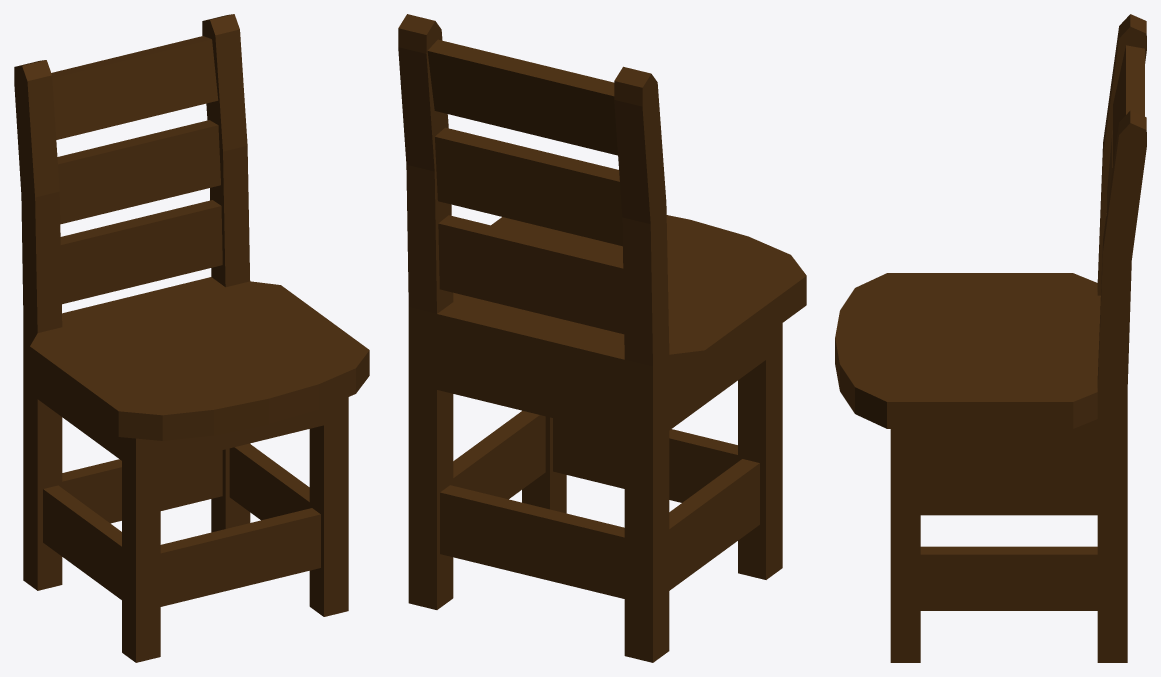
Rendered from chare.glb.
The picture shows the model from 3 angles, left to right: view 1: azimuth 30°, elevation 25°; view 2: azimuth 150°, elevation 25°; view 3: azimuth 270°, elevation 25°; orthographic projection. The views are drawn at different scales.
Visible parts, largest first — view 1: Cube; view 2: Cube; view 3: Cube.
Part boxes in pixels (bbox=[...]): Cube: bbox=[14, 14, 369, 662]; Cube: bbox=[398, 14, 806, 662]; Cube: bbox=[835, 14, 1146, 662].
Size of the model in its own units: 6.45 by 12.62 by 6.6.
Materials: 1 (1 with a texture image).
